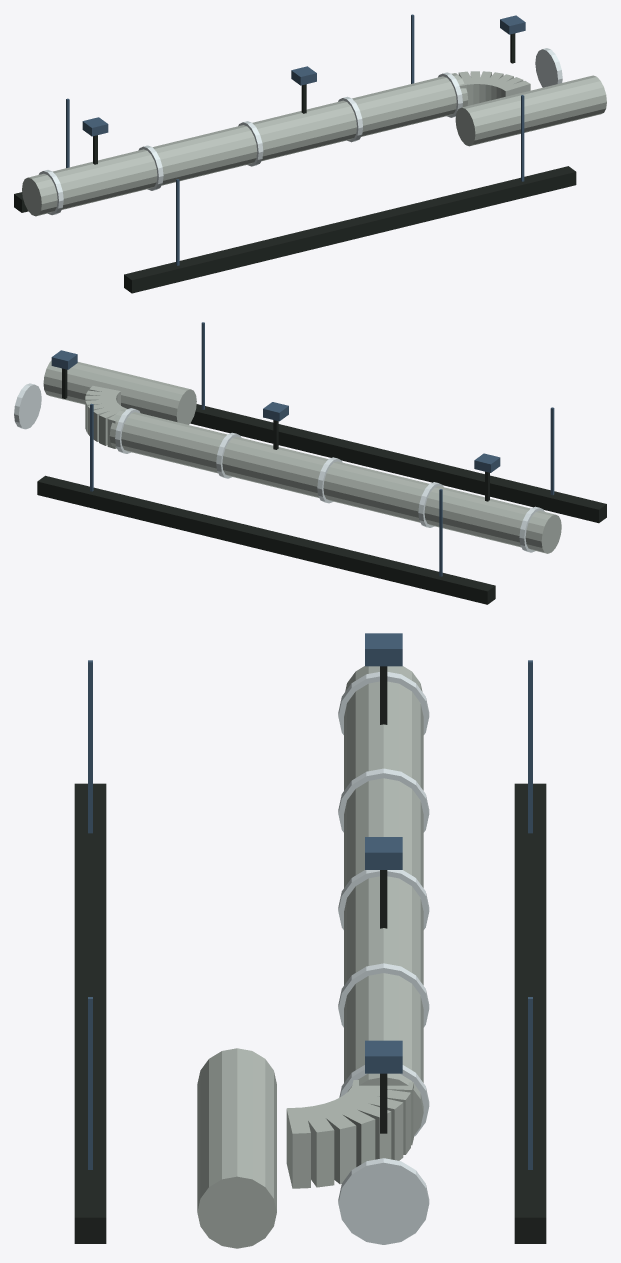
The model's file is gh_ceiling_services_v01.glb.
3 views of the same model, one above another, from view 1: azimuth 30°, elevation 25°; view 2: azimuth 150°, elevation 25°; view 3: azimuth 270°, elevation 25° (orthographic). The views are drawn at different scales.
Visible parts, largest first — view 1: Exposed warehouse ceiling services; view 2: Exposed warehouse ceiling services; view 3: Exposed warehouse ceiling services.
Part boxes in pixels (x1,y1,x2,y2): Exposed warehouse ceiling services: [14, 14, 606, 293]; Exposed warehouse ceiling services: [14, 322, 606, 604]; Exposed warehouse ceiling services: [74, 633, 546, 1248].
Size of the model in its own units: 5.82 by 1.1 by 2.25.
Materials: 1 (1 with a texture image).
